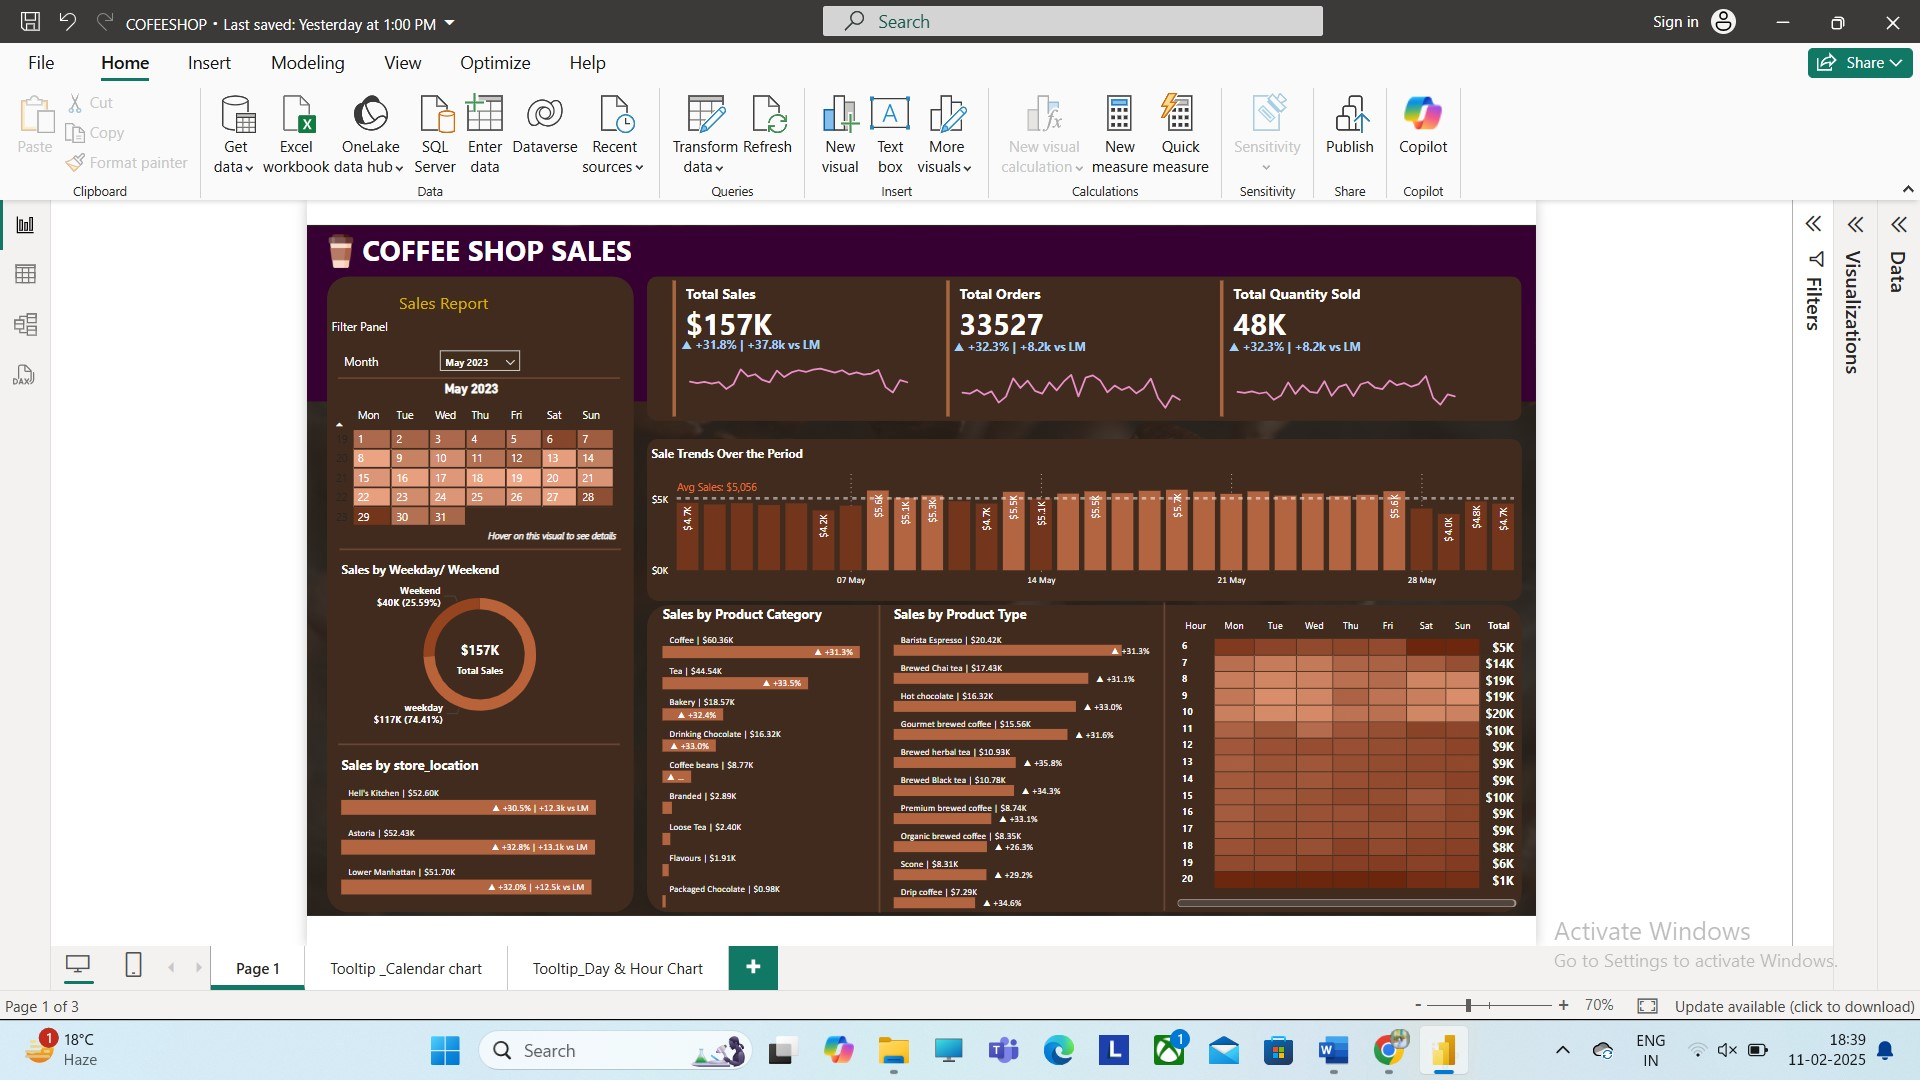

What the dashboard file says about the page in this screenshot:
{"tool":"powerbi","page":{"name":"Page 1","canvas":[1400,850],"ordinal":0},"visuals":[{"type":"shape","box":[0,30,1400.3,199.6],"z":0},{"type":"shape","box":[22.5,87.1,349.7,724.9],"z":1000},{"type":"shape","box":[387.2,87.1,996.6,165.1],"z":2000},{"type":"textbox","box":[22.8,29.9,398.8,57],"z":3000},{"type":"cardVisual","fields":{"Data":["Transactions.Total Sales"]},"box":[411.2,87.1,300.2,165.1],"z":4000,"group":"g1"},{"type":"cardVisual","fields":{"Data":["Transactions.Total Orders"]},"box":[723.4,87.1,300.2,165.1],"z":4000},{"type":"slicer","fields":{"Values":["Date Table.Month Year"]},"box":[146.7,166.6,101.1,32.8],"z":5000},{"type":"lineChart","fields":{"Y":["Transactions.Total Sales"],"Category":["Date Table.Date.Variation.Date Hierarchy.Year","Date Table.Date.Variation.Date Hierarchy.Quarter","Date Table.Date.Variation.Date Hierarchy.Month","Date Table.Date.Variation.Date Hierarchy.Day"]},"box":[421.7,156.1,277.7,85.5],"z":6000,"group":"g1"},{"type":"lineChart","fields":{"Category":["Date Table.Date.Variation.Date Hierarchy.Year","Date Table.Date.Variation.Date Hierarchy.Quarter","Date Table.Date.Variation.Date Hierarchy.Month","Date Table.Date.Variation.Date Hierarchy.Day"],"Y":["Transactions.Total Orders"]},"box":[732.4,157.6,277.7,85.5],"z":6000},{"type":"group","id":"g1","title":"Group 1","box":[411.2,87.1,300.2,165.1],"z":7000},{"type":"cardVisual","fields":{"Data":["Transactions.Total Quantity Sold"]},"box":[1035.6,87.1,300.2,165.1],"z":8000},{"type":"lineChart","fields":{"Category":["Date Table.Date.Variation.Date Hierarchy.Year","Date Table.Date.Variation.Date Hierarchy.Quarter","Date Table.Date.Variation.Date Hierarchy.Month","Date Table.Date.Variation.Date Hierarchy.Day"],"Y":["Transactions.Total Quantity Sold"]},"box":[1046.1,157.6,277.7,85.5],"z":9000},{"type":"pivotTable","fields":{"Rows":["Date Table.Week No"],"Columns":["Date Table.Day Name"],"Values":["Date Table.Day No"]},"box":[22.5,229.6,334.7,181.6],"z":10000},{"type":"card","fields":{"Values":["Date Table.Month Year"]},"box":[123.1,202.6,130.6,27],"z":11000},{"type":"card","fields":{"Values":["Transactions.Foot Note"]},"box":[186.1,370.7,186.1,27],"z":12000},{"type":"shape","box":[37.5,384.2,321.2,27],"z":13000},{"type":"shape","box":[36,189.1,321.2,27],"z":14000},{"type":"donutChart","title":"Sales by Weekday/ Weekend","fields":{"Category":["Date Table.Weekday/ Weekend"],"Y":["Transactions.Total Sales"]},"box":[34.5,411.2,325.7,195.1],"z":15000},{"type":"card","fields":{"Values":["Transactions.Total Sales"]},"box":[144.1,495.3,106.6,52.5],"z":16000},{"type":"shape","box":[36,606.3,321.2,27],"z":17000},{"type":"clusteredBarChart","title":"Sales by store_location","fields":{"Category":["Transactions.store_location"],"Y":["Transactions.Placeholder","Transactions.Total Sales"]},"box":[34.5,633.4,325.7,165.1],"z":18000},{"type":"shape","box":[387.4,272,997,185],"z":19000},{"type":"columnChart","title":"Sale Trends Over the Period","fields":{"Category":["Transactions.transaction_date"],"Y":["Transactions.Total Sales"]},"box":[387.4,279.2,997,170.9],"z":20000},{"type":"shape","box":[387.4,461.5,997,350.4],"z":21000},{"type":"clusteredBarChart","title":"Sales by Product Category","fields":{"Y":["Transactions.Placeholder","Transactions.Total Sales"],"Category":["Transactions.product_category"]},"box":[400.2,461.5,263.5,350.4],"z":22000},{"type":"shape","box":[640.9,461.5,22.8,350.4],"z":23000},{"type":"clusteredBarChart","title":"Sales by Product Type","fields":{"Y":["Transactions.Placeholder","Transactions.Total Sales"],"Category":["Transactions.product_type"]},"box":[663.4,460.8,301.7,351.2],"z":24000},{"type":"shape","box":[965.1,459.3,22.5,351.2],"z":25000},{"type":"pivotTable","fields":{"Rows":["Transactions.Hour"],"Columns":["Date Table.Day Name"],"Values":["Transactions.Total Sales"]},"box":[987.6,472.8,396.2,337.7],"z":26000},{"type":"textbox","box":[22.8,129.6,99.7,28.5],"z":27000},{"type":"textbox","box":[37,169.5,106.8,31.3],"z":28000},{"type":"textbox","box":[99.7,99.7,198,44.2],"z":29000},{"type":"image","box":[4.3,34.2,68.4,48.4],"z":29001}]}

Visuals, with their boxes on the page's 1400x850 design canvas (x1, y1, x2, y2). These are canvas units, not pixel positions in the 1920x1080 screenshot, which may show the page scaled, cropped or inside an application window:
shape: (0, 30, 1400, 230)
shape: (22, 87, 372, 812)
shape: (387, 87, 1384, 252)
textbox: (23, 30, 422, 87)
cardVisual - Transactions.Total Sales: (411, 87, 711, 252)
cardVisual - Transactions.Total Orders: (723, 87, 1024, 252)
slicer - Date Table.Month Year: (147, 167, 248, 199)
lineChart - Transactions.Total Sales x Date Table.Date.Variation.Date Hierarchy.Year: (422, 156, 699, 242)
lineChart - Date Table.Date.Variation.Date Hierarchy.Year x Date Table.Date.Variation.Date Hierarchy.Quarter: (732, 158, 1010, 243)
"Group 1" group: (411, 87, 711, 252)
cardVisual - Transactions.Total Quantity Sold: (1036, 87, 1336, 252)
lineChart - Date Table.Date.Variation.Date Hierarchy.Year x Date Table.Date.Variation.Date Hierarchy.Quarter: (1046, 158, 1324, 243)
pivotTable - Date Table.Week No x Date Table.Day Name: (22, 230, 357, 411)
card - Date Table.Month Year: (123, 203, 254, 230)
card - Transactions.Foot Note: (186, 371, 372, 398)
shape: (38, 384, 359, 411)
shape: (36, 189, 357, 216)
"Sales by Weekday/ Weekend" donutChart: (34, 411, 360, 606)
card - Transactions.Total Sales: (144, 495, 251, 548)
shape: (36, 606, 357, 633)
"Sales by store_location" clusteredBarChart: (34, 633, 360, 798)
shape: (387, 272, 1384, 457)
"Sale Trends Over the Period" columnChart: (387, 279, 1384, 450)
shape: (387, 462, 1384, 812)
"Sales by Product Category" clusteredBarChart: (400, 462, 664, 812)
shape: (641, 462, 664, 812)
"Sales by Product Type" clusteredBarChart: (663, 461, 965, 812)
shape: (965, 459, 988, 810)
pivotTable - Transactions.Hour x Date Table.Day Name: (988, 473, 1384, 810)
textbox: (23, 130, 122, 158)
textbox: (37, 170, 144, 201)
textbox: (100, 100, 298, 144)
image: (4, 34, 73, 83)
